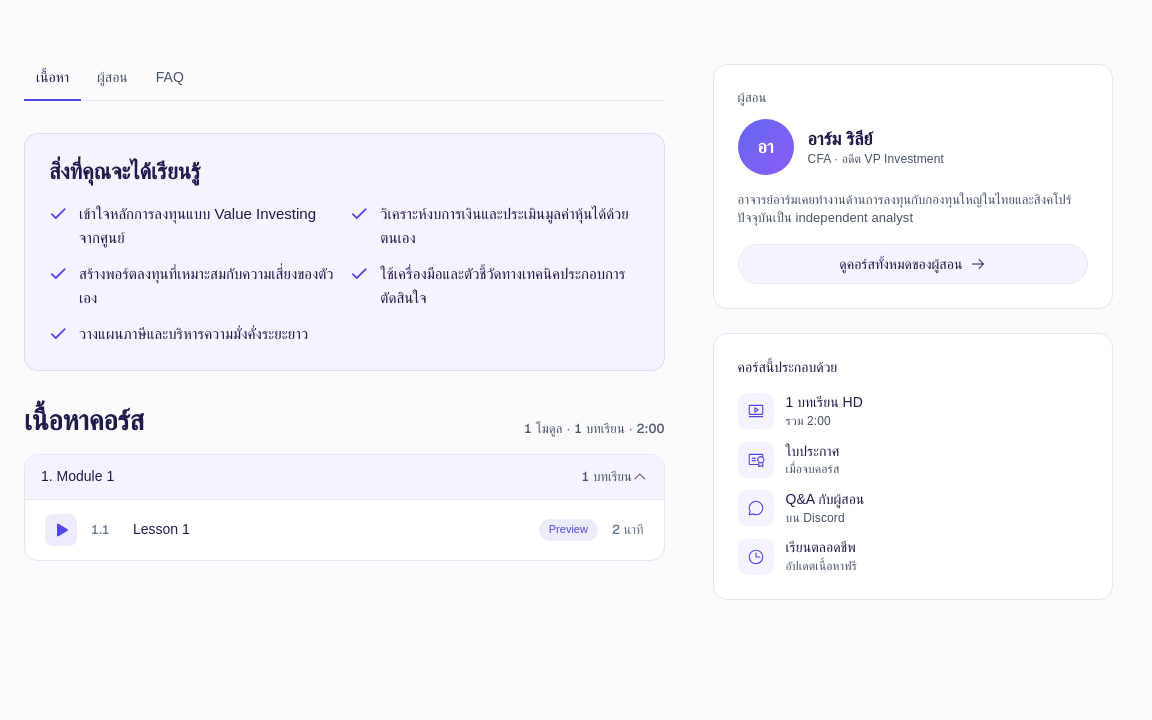
Test: CourseTabs › switches to FAQ tab and accordion opens/closes
Click the tab "FAQ".
click(170, 82)  # box [144,64,196,100]
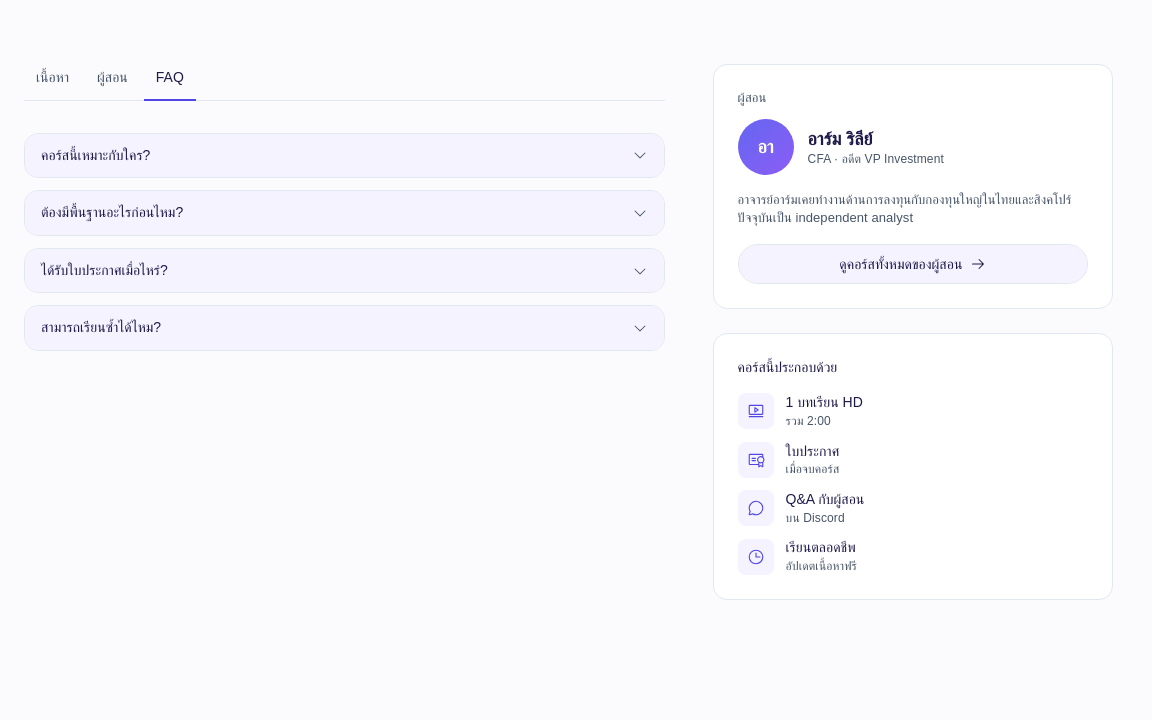
Check: the button "คอร์สนี้เหมาะกับใคร?" is shown
Click the button "คอร์สนี้เหมาะกับใคร?".
click(96, 155)  # box [25,134,664,177]
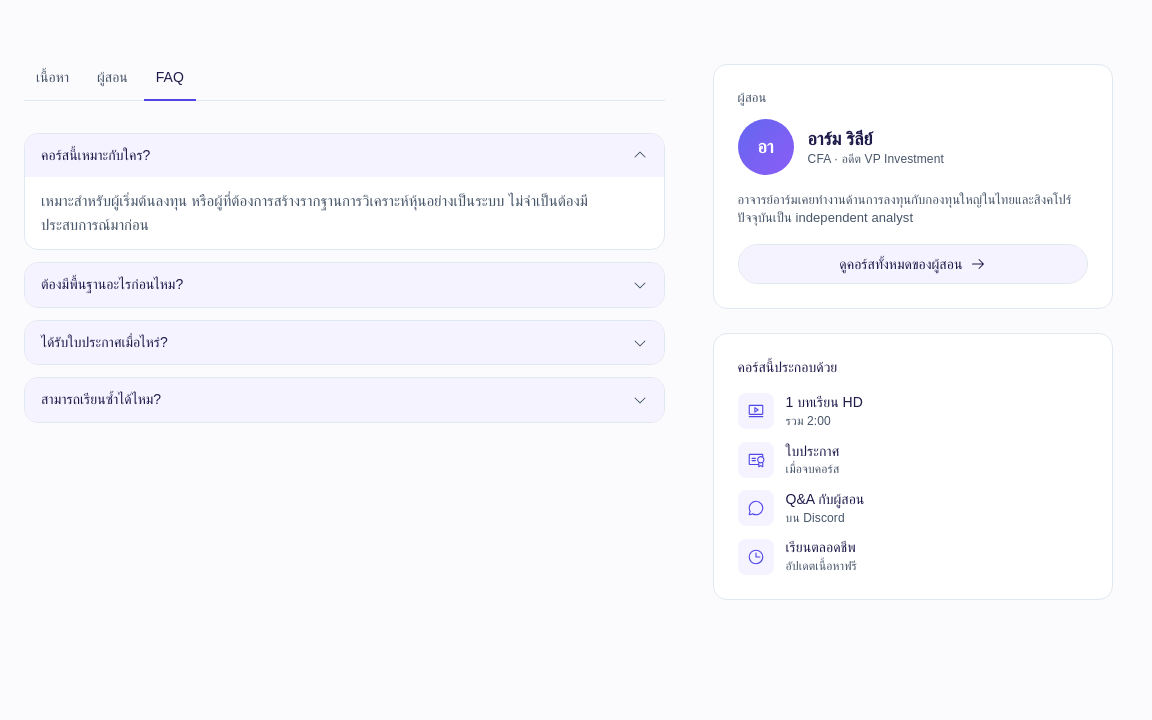
Check: the button "คอร์สนี้เหมาะกับใคร?" is expanded
Check: the text "เหมาะสำหรับผู้เริ่มต้นลงทุน หรือผู้ที่ต้องการสร้างรากฐานการวิเคราะห์หุ้นอย่างเป็นระบบ ไม่จำเป็นต้องมีประสบการณ์มาก่อน" is shown, box [41,192,588,233]
Click the button "คอร์สนี้เหมาะกับใคร?".
click(96, 155)  # box [25,134,664,177]
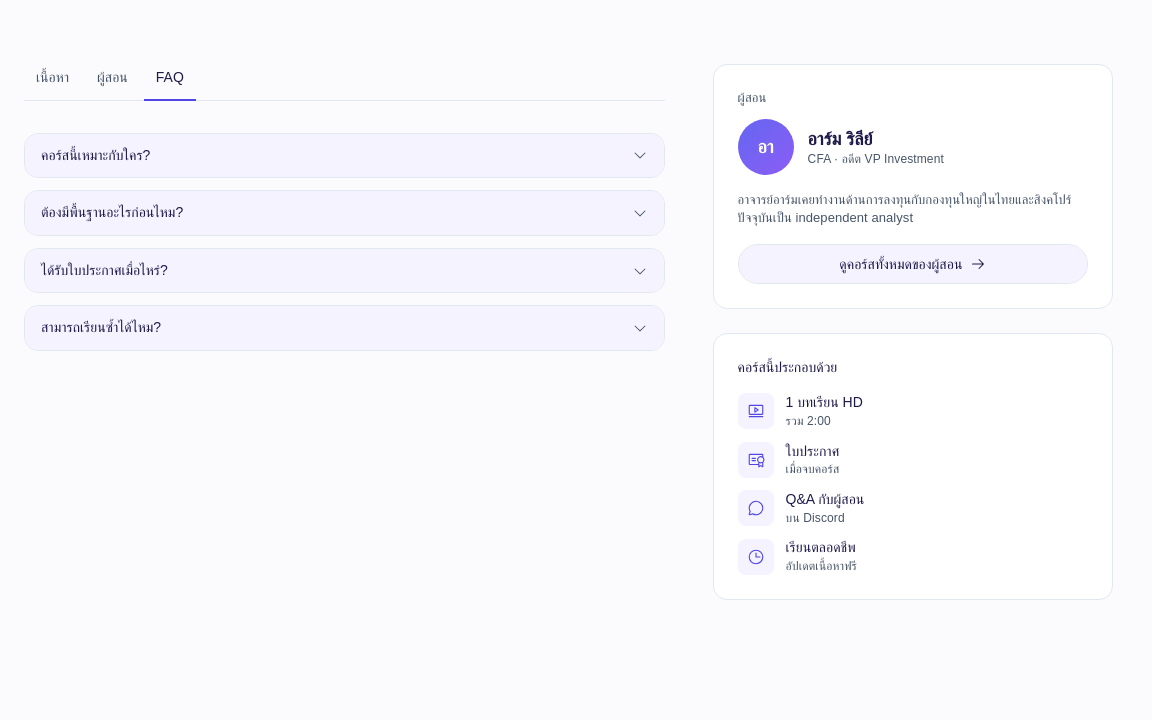
Check: the button "คอร์สนี้เหมาะกับใคร?" is collapsed, box [25,134,664,177]
